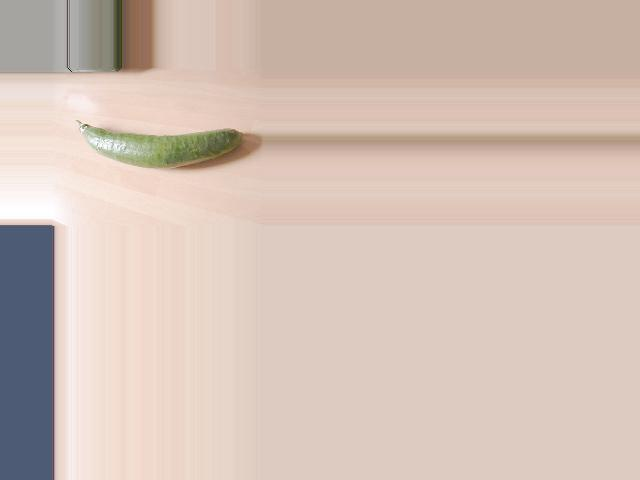cucumber: (74, 120, 244, 169)
